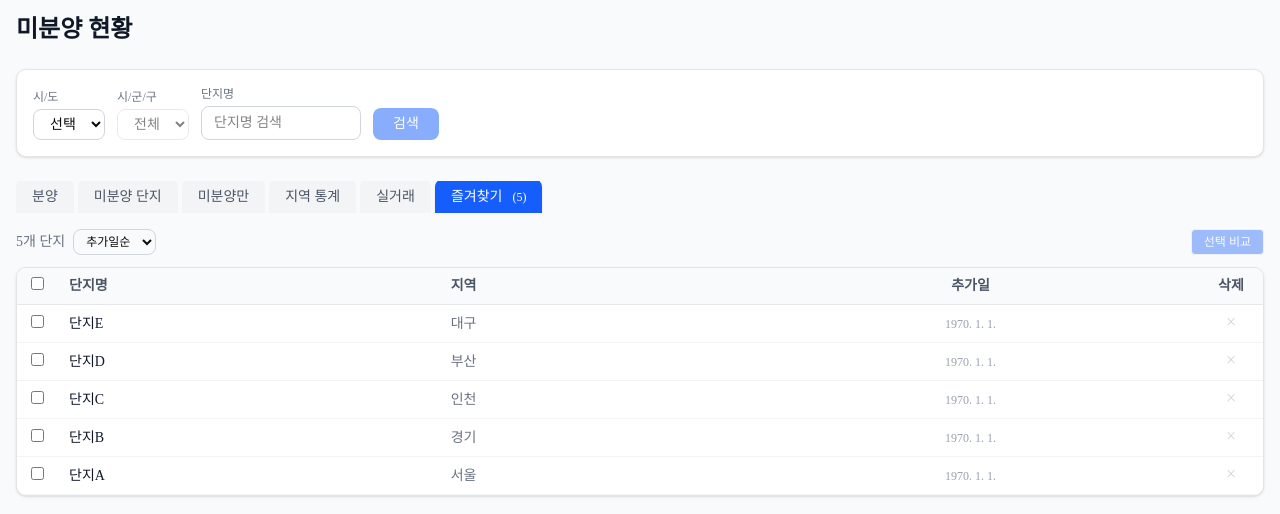
Scenario: 미분양 메인 — 즐겨찾기 일괄 비교 › 체크박스 2개 선택 시 선택 비교 버튼이 활성화된다
The image size is (1280, 514).
Click the checkbox named "단지E 선택".
click(37, 321)  # box [30,314,44,328]
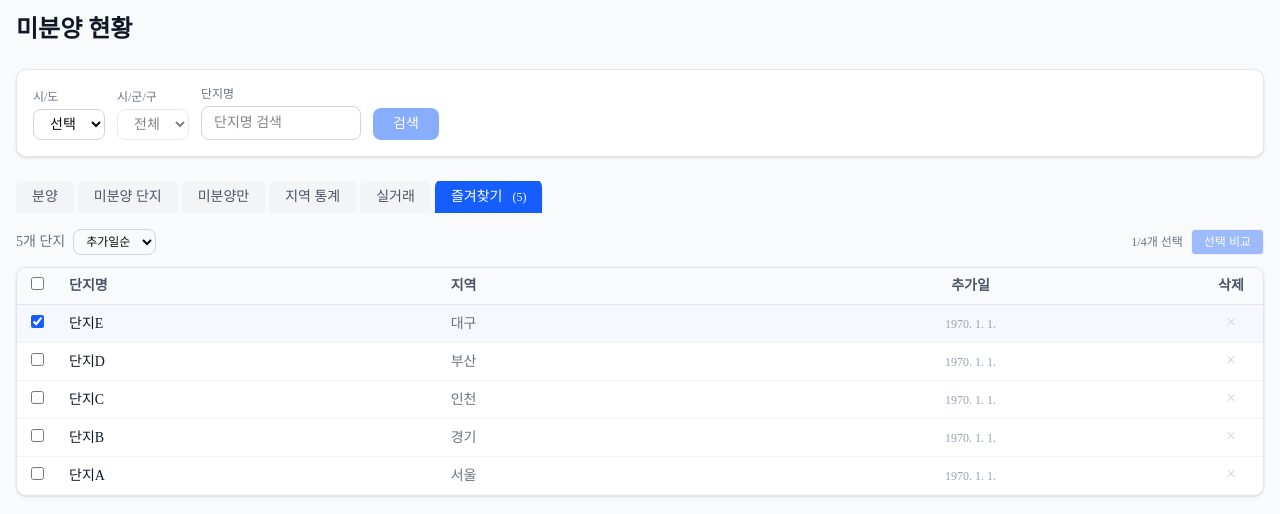
Click the checkbox named "단지D 선택".
click(37, 359)  # box [30,352,44,366]
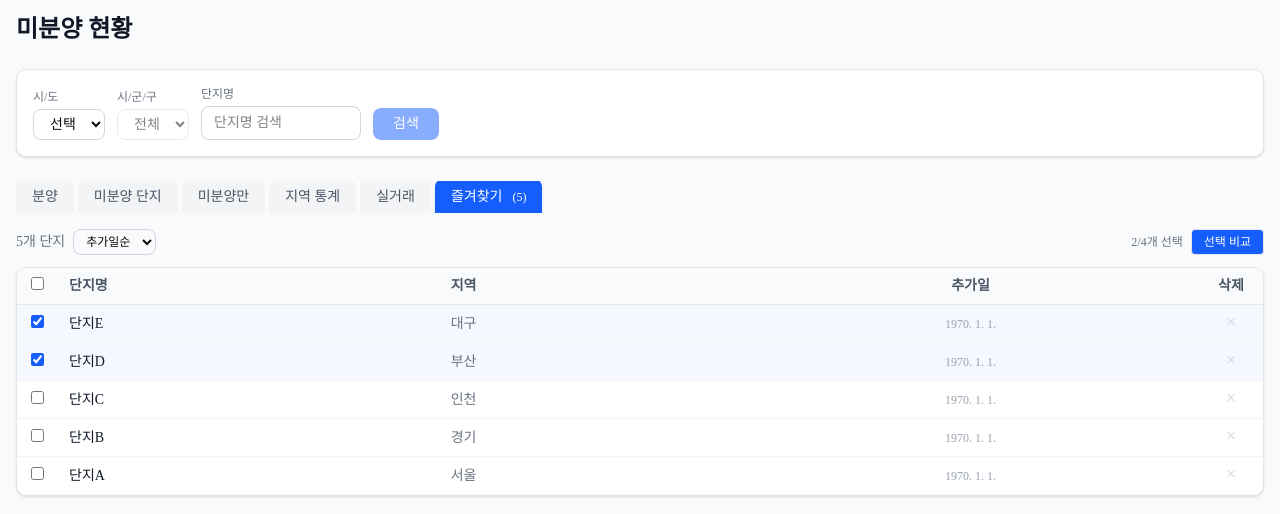
Check: the button "선택 비교" is enabled, box [1191,229,1264,255]
Check: the text "2/4개 선택" is shown, box [1131,234,1183,250]
